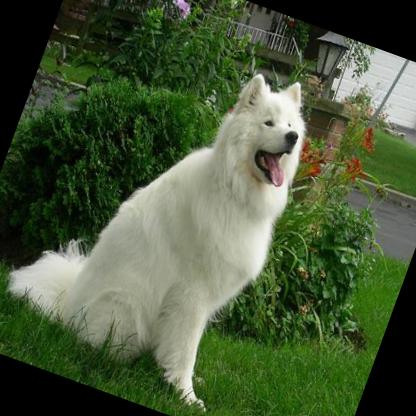Samoyed: (0, 10, 324, 415)
